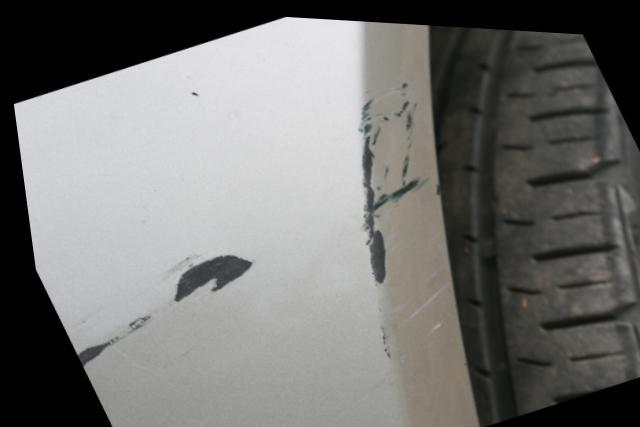scratch: (346, 68, 444, 354), (58, 246, 250, 373)
